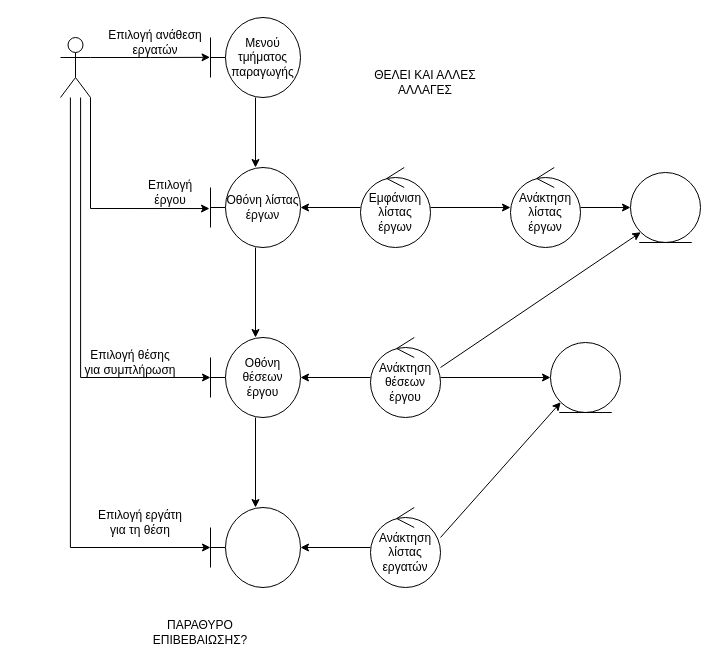
Image size: 718x665. Some labels were removed from this diagram. The box of each missing label's shape, as (x1, y1, x2, y2) in pixels:
Έργο: (630, 172, 700, 242)
Εργάτης: (550, 342, 620, 412)
Λίστα εργατών: (210, 506, 300, 588)
ΤΜΗΜΑ ΠΑΡΑΓΩΓΗΣ: (60, 36, 90, 98)
